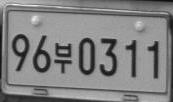0: (77, 37, 96, 75)
1: (145, 40, 164, 79), (122, 40, 141, 78)
3: (99, 37, 118, 77)
6: (31, 34, 51, 73)
9: (11, 32, 29, 72)
부: (53, 42, 72, 73)
